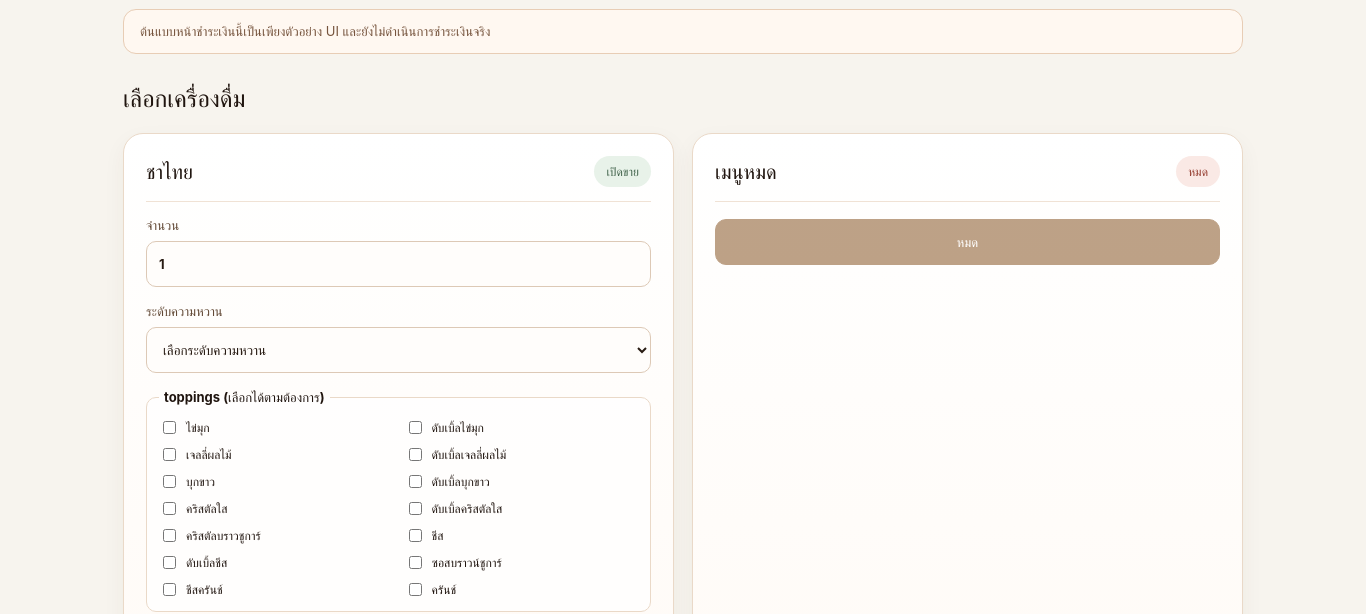
Test case: OrderPage › renders payment controls as non-interactive mockup placeholders
Expected: the heading "ชาไทย" is shown, [146, 160, 193, 184]
Step 1. Select "หวานปกติ 75%" in the dropdown labelled "ระดับความหวาน" → point(398, 350), box [146, 327, 651, 373]
(page scrolled)
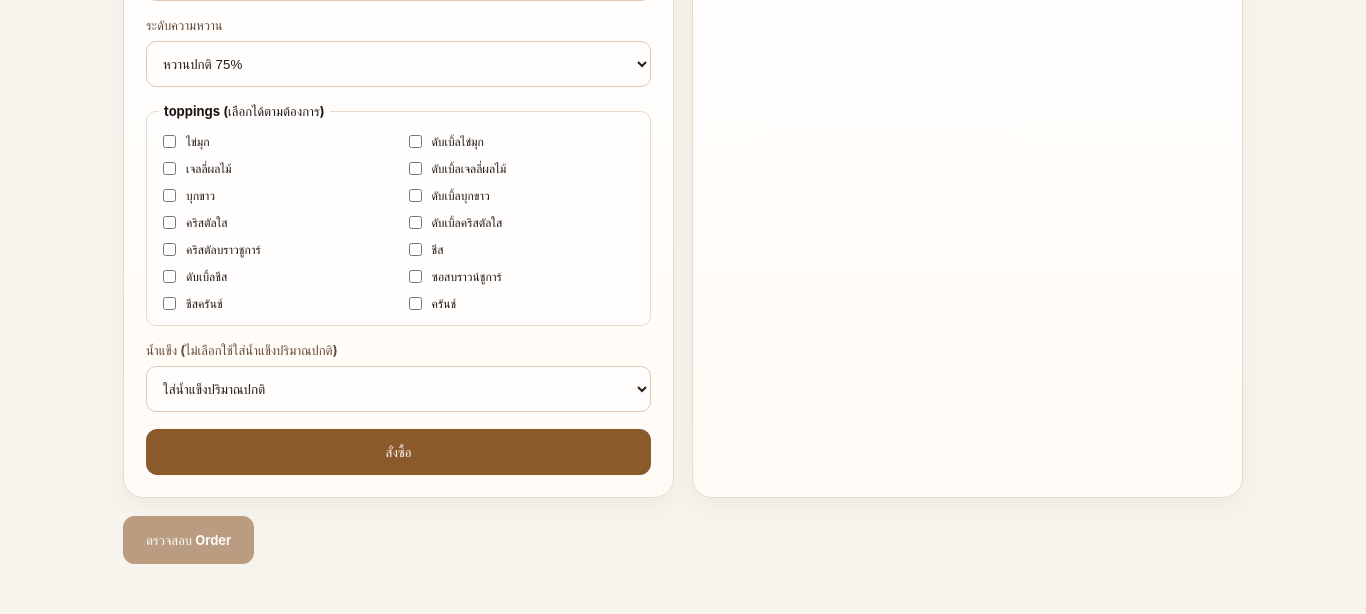
Step 2. Click the button "สั่งซื้อ" → point(398, 452), box [146, 429, 651, 475]
(page scrolled)
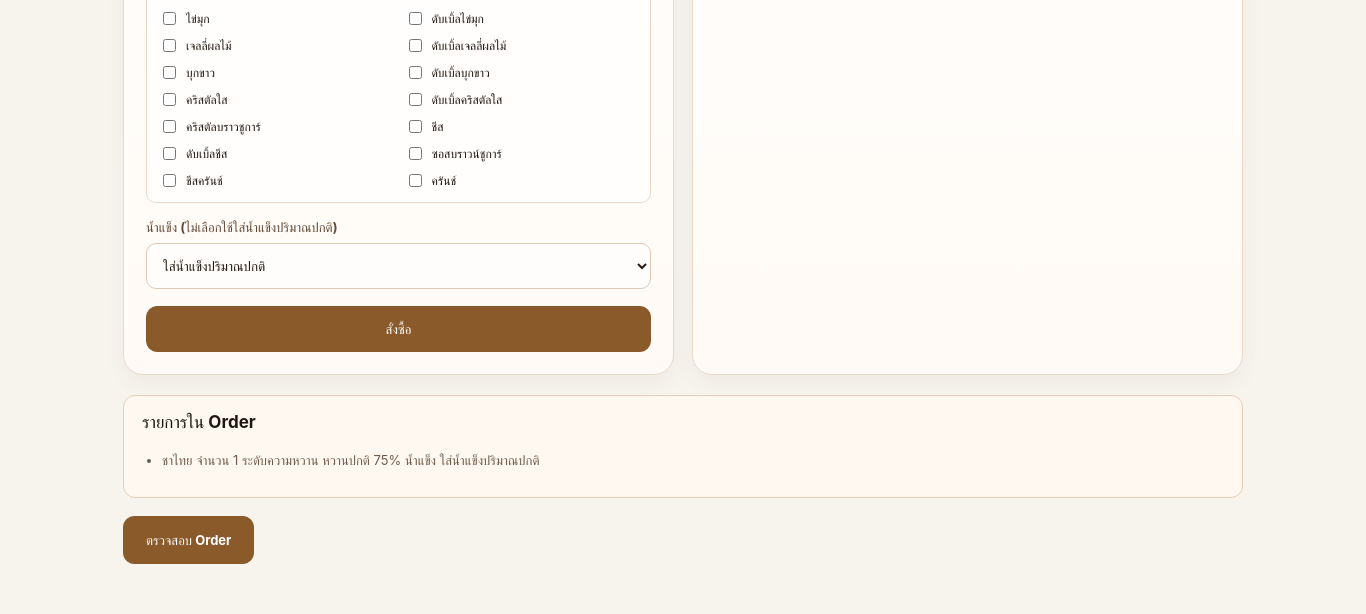
Now the list item "ชาไทย จำนวน 1" is shown, box [162, 452, 540, 468]
Step 3. Click the button "ตรวจสอบ Order" → point(189, 540), box [123, 516, 254, 564]
(page scrolled)
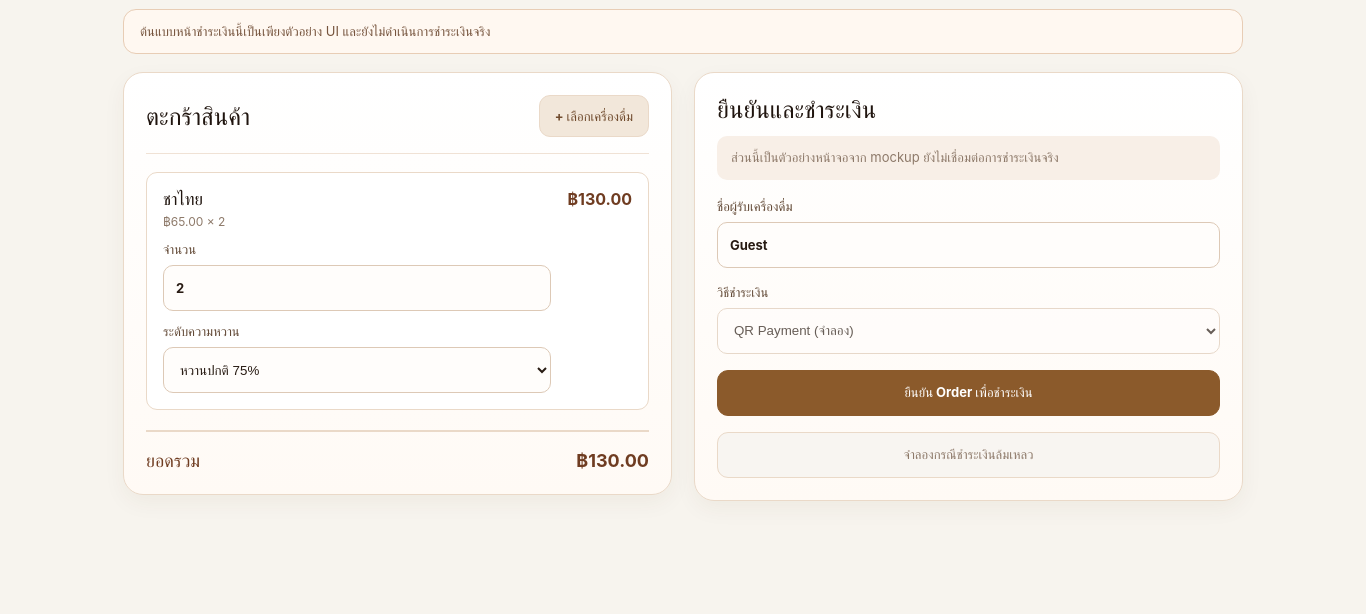
Now the heading "ตะกร้าสินค้า" is shown, box [146, 102, 250, 130]
Now the field named "ชื่อผู้รับเครื่องดื่ม (ตัวอย่าง)" holds "Guest", box [717, 222, 1220, 268]
Now the dropdown named "วิธีชำระเงิน (ตัวอย่าง)" is disabled, box [717, 308, 1220, 354]
